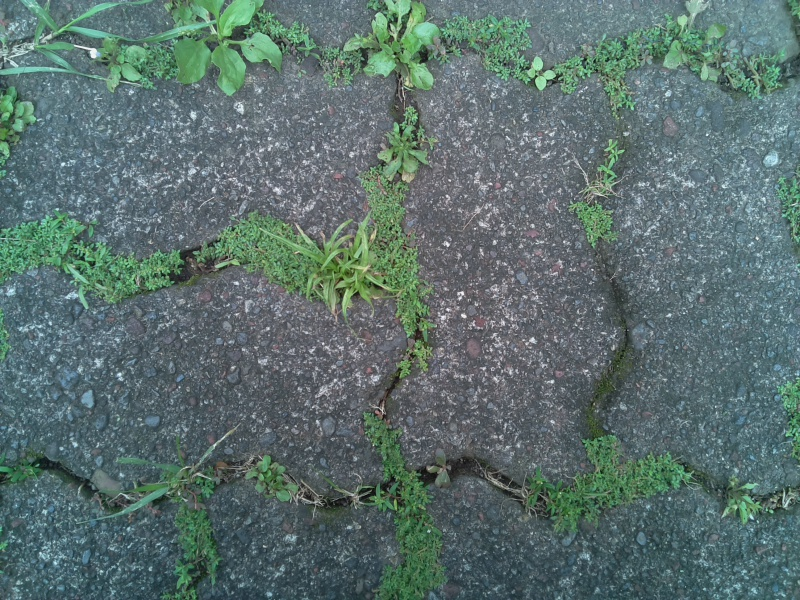Weed: (353, 409, 451, 600), (512, 431, 691, 531), (1, 217, 182, 309), (548, 23, 666, 120), (170, 3, 286, 91), (254, 7, 371, 91), (346, 1, 441, 88), (289, 227, 376, 306), (438, 14, 527, 85), (166, 497, 227, 600), (712, 37, 789, 106), (120, 454, 220, 506), (663, 4, 722, 87), (576, 143, 623, 247), (376, 123, 448, 184), (241, 447, 305, 515), (88, 32, 148, 89), (717, 471, 759, 534), (1, 451, 45, 497), (522, 56, 554, 95)
